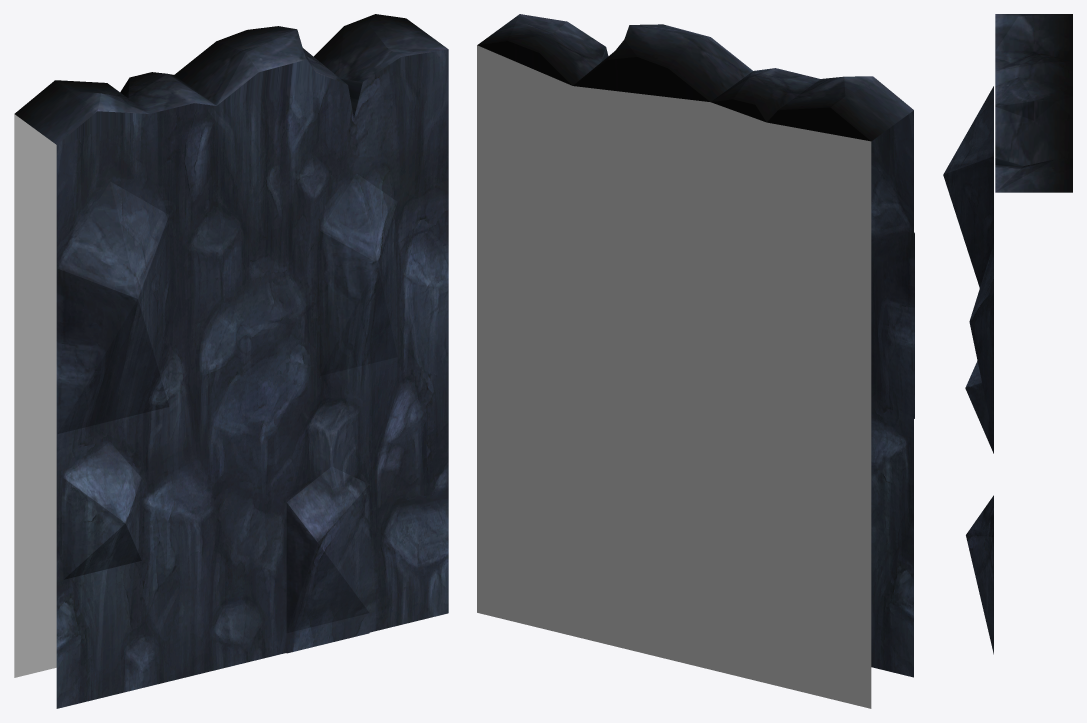
The model's file is mine_broken_fullstraight_01.fbx.
The picture shows the model from 3 angles, left to right: view 1: azimuth 30°, elevation 25°; view 2: azimuth 150°, elevation 25°; view 3: azimuth 270°, elevation 25°; orthographic projection. The views are drawn at different scales.
Visible parts, largest first — view 1: obj2.015; view 2: obj2.015; view 3: obj2.015.
Boxes of the visible parts, <box> form: obj2.015: <box>14,14,448,708</box>; obj2.015: <box>477,14,914,708</box>; obj2.015: <box>943,14,1072,654</box>.
Size of the model in its own units: 4 by 5.86 by 1.25.
